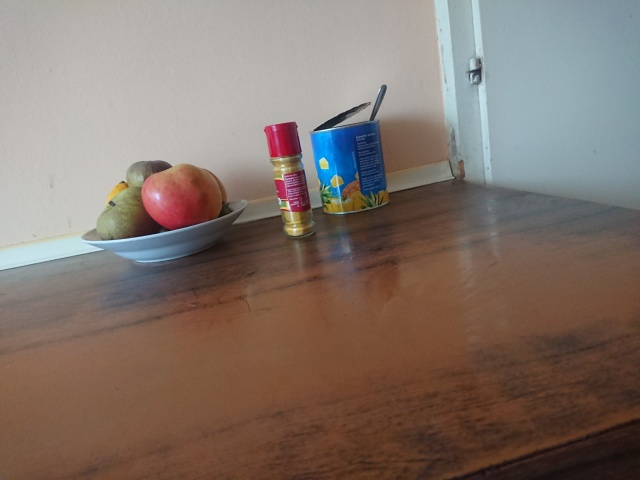Kotanyi Curry Spices Mix 70g: (262, 120, 318, 241)
